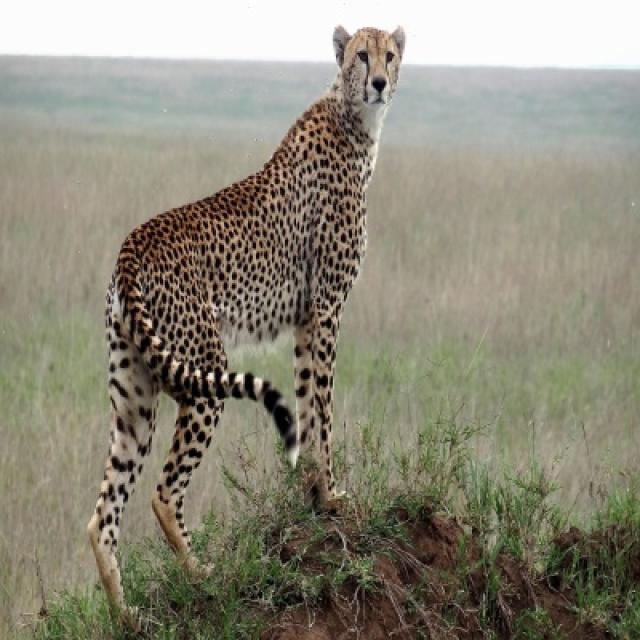Cheetah: (86, 26, 406, 622)
